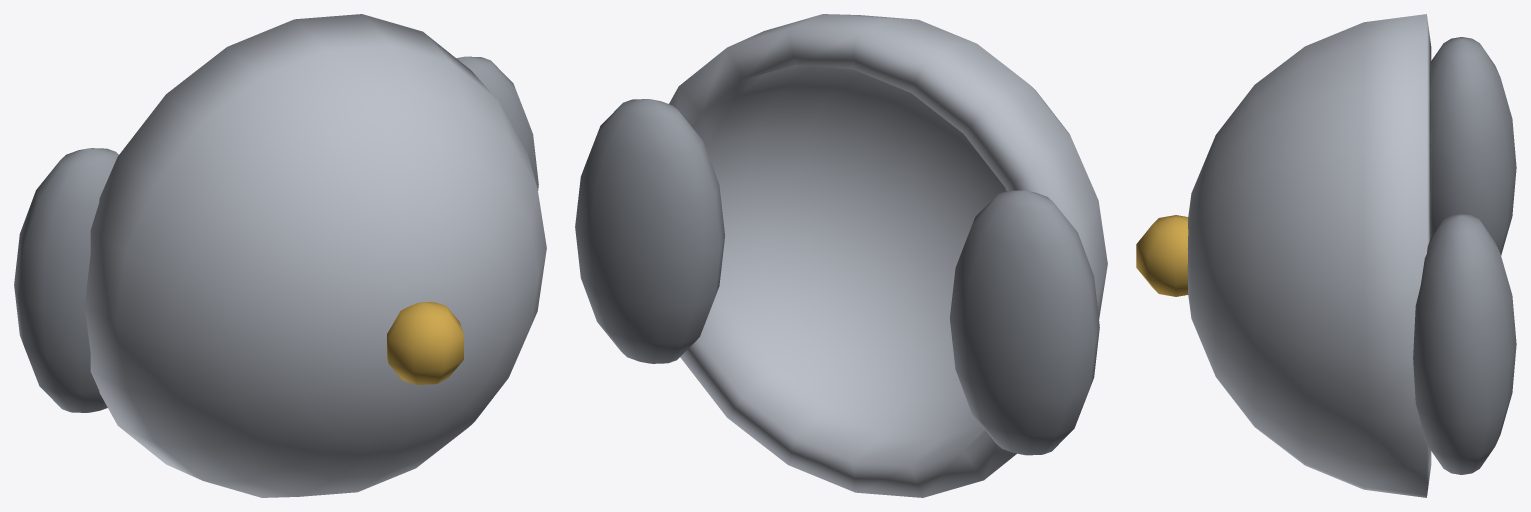
File: knie.glb
3 renders of one model, left to right at view 1: azimuth 30°, elevation 25°; view 2: azimuth 150°, elevation 25°; view 3: azimuth 270°, elevation 25°, orthographic. The views are drawn at different scales.
Visible parts, largest first — view 1: knie; view 2: knie; view 3: knie.
Part boxes in pixels (bbox=[...]): knie: bbox=[14, 14, 546, 497]; knie: bbox=[575, 14, 1107, 497]; knie: bbox=[1136, 14, 1516, 497].
Bounding box in the file's own units: 0.165 × 0.14 × 0.1092.
